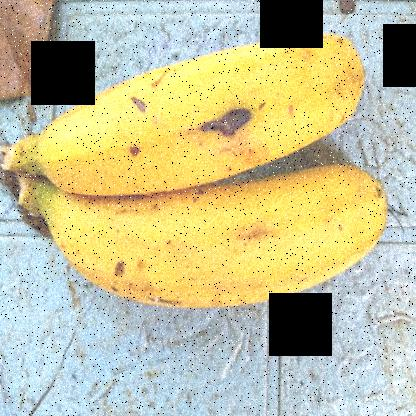freshripe: (43, 161, 393, 327)
ripe: (52, 1, 386, 193)
